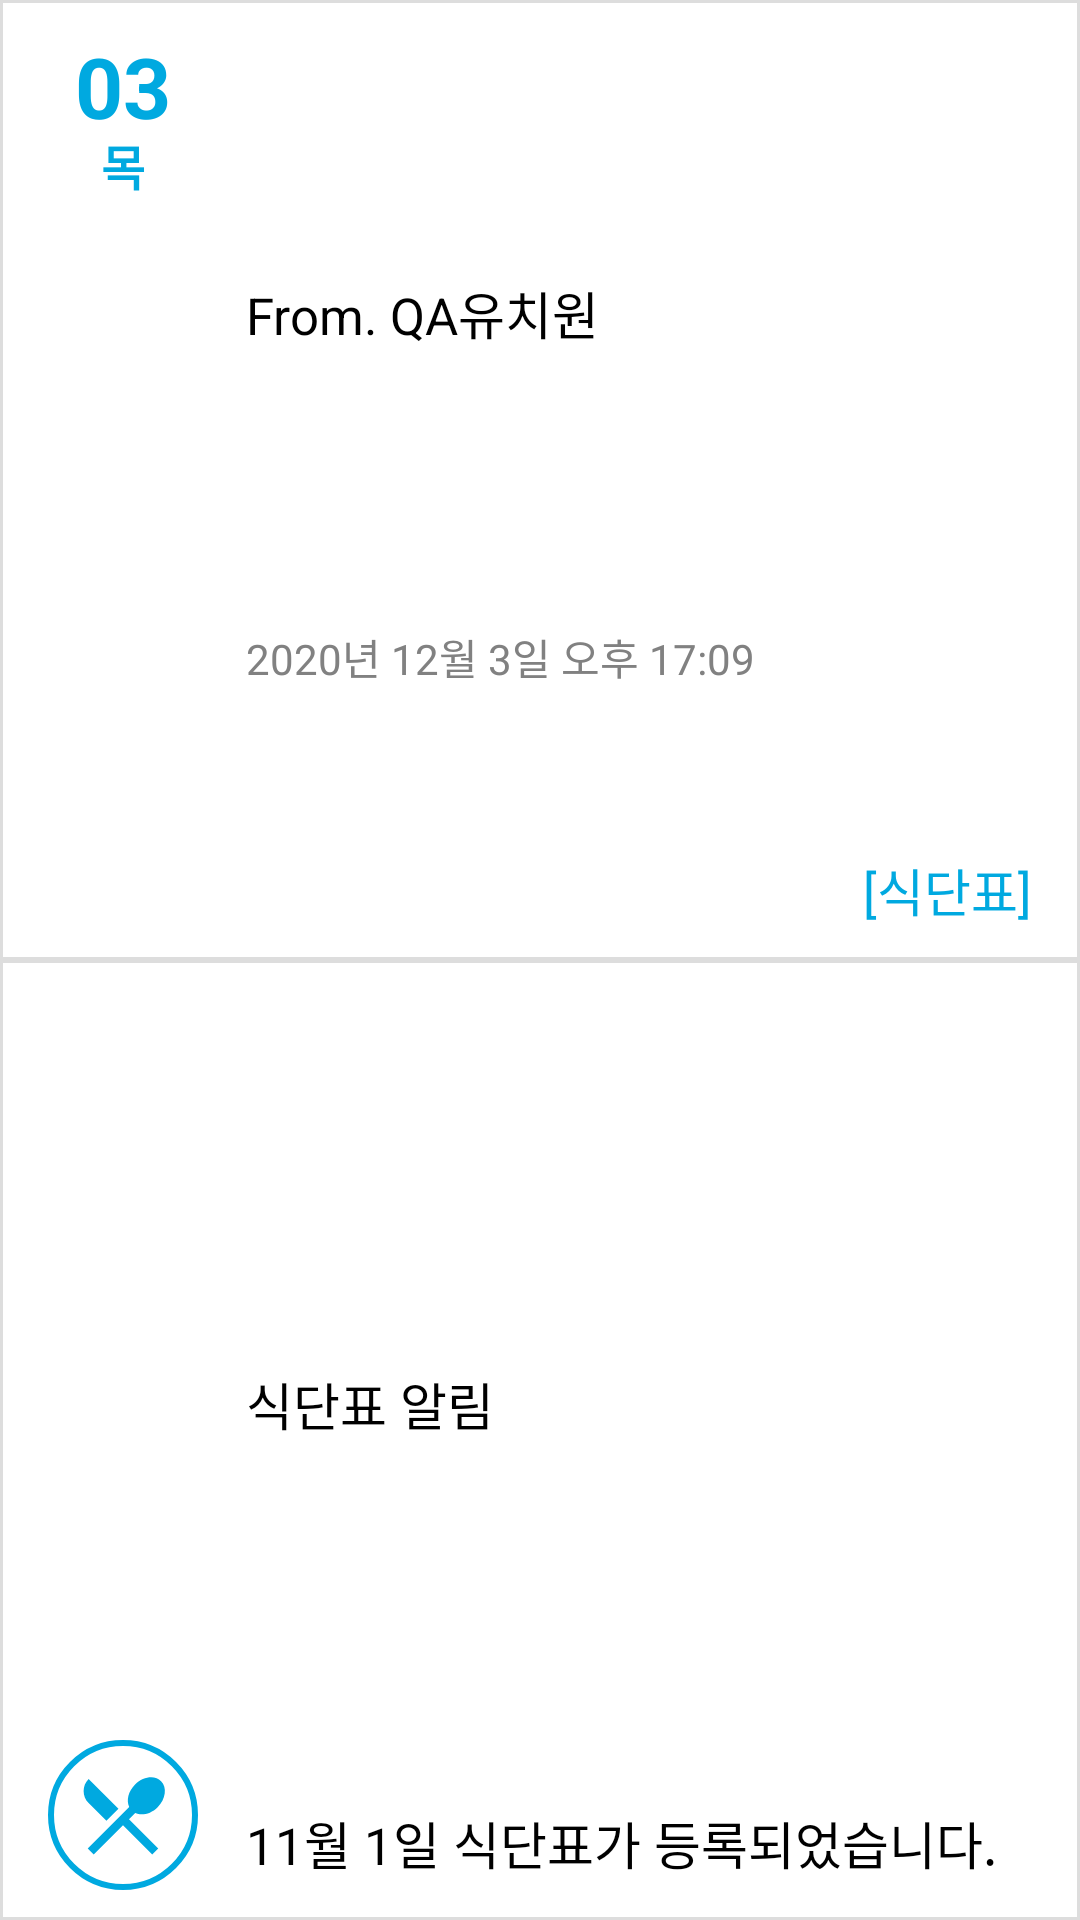

Where icons sit on this 1080 x 1920 app screen, as (x1, y1, x2, y2):
local dining: (48, 1740, 198, 1890)
